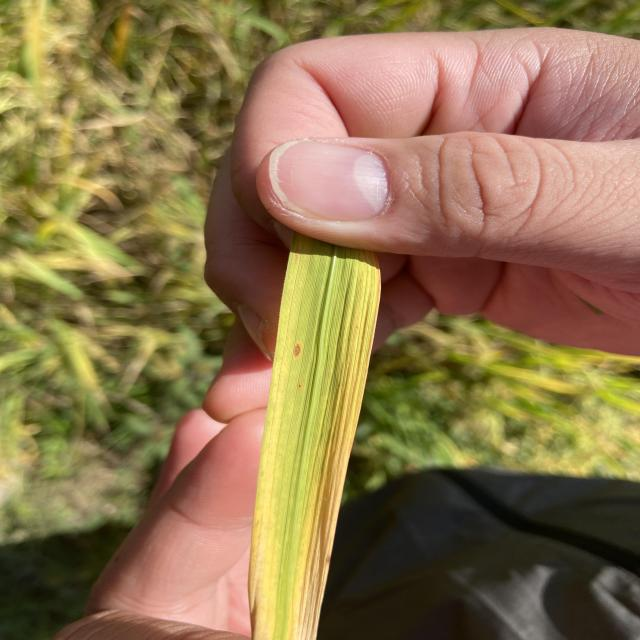Dom nau: (294, 346, 300, 355), (299, 385, 301, 387)
